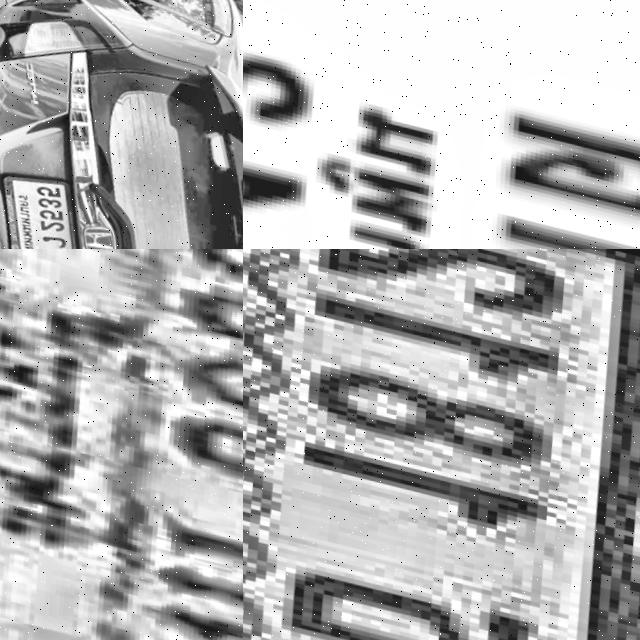license-plate: (243, 249, 640, 640), (243, 0, 640, 249), (0, 249, 243, 640), (0, 153, 95, 249)
